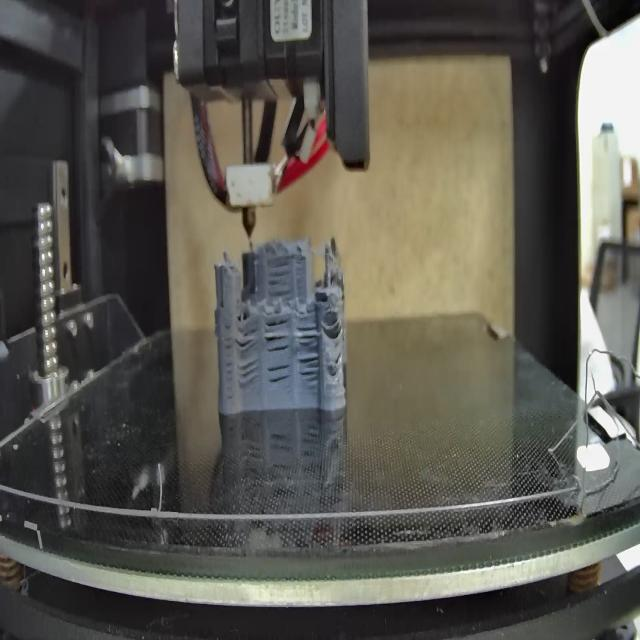cracks: (296, 322, 320, 387), (266, 254, 294, 302), (262, 318, 291, 356), (234, 328, 262, 352), (225, 326, 233, 406), (325, 310, 343, 343), (266, 366, 292, 388), (239, 362, 260, 388), (331, 353, 348, 375)
